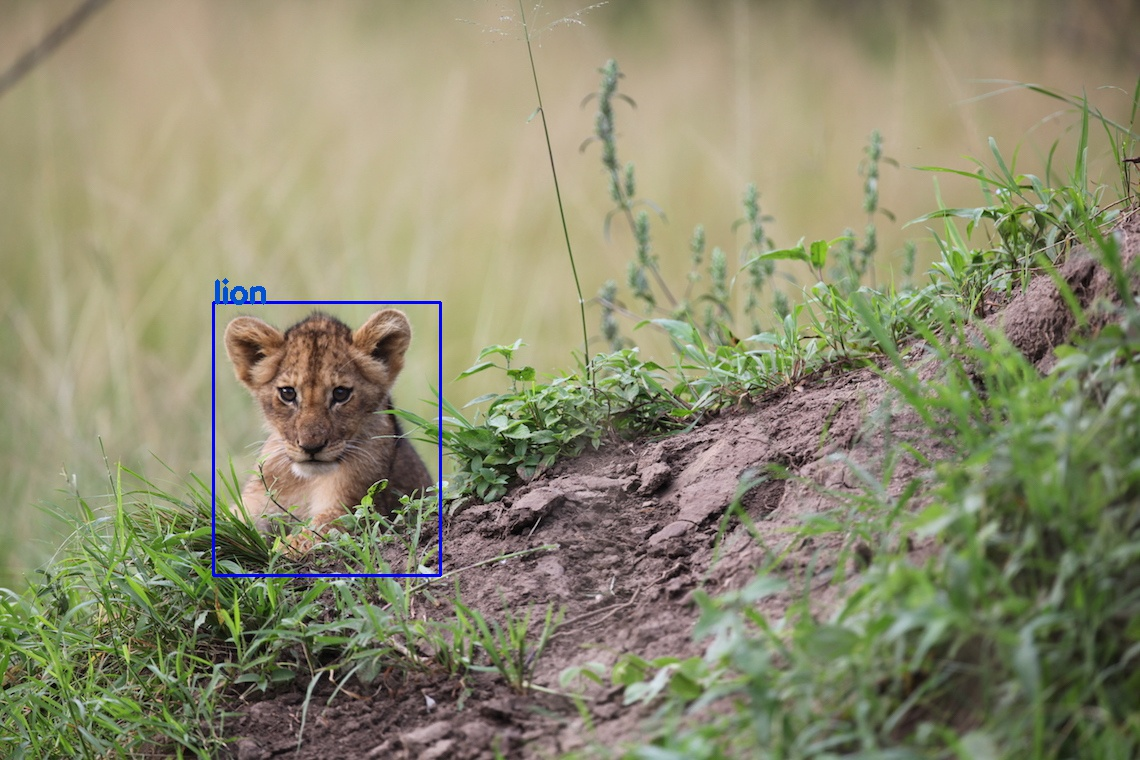lion: (213, 302, 440, 575)
